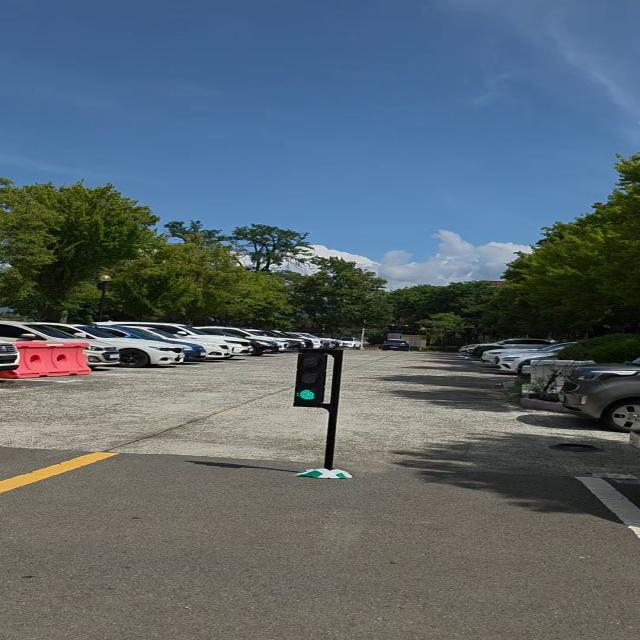green: (290, 349, 332, 408)
